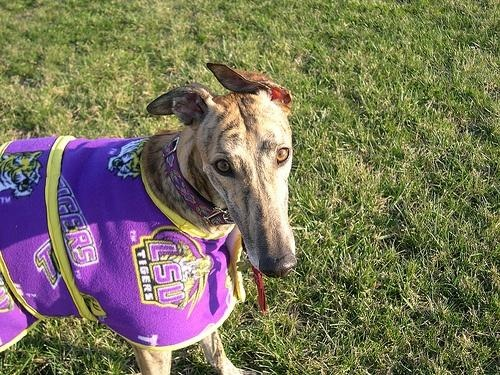dog: (1, 64, 298, 375)
